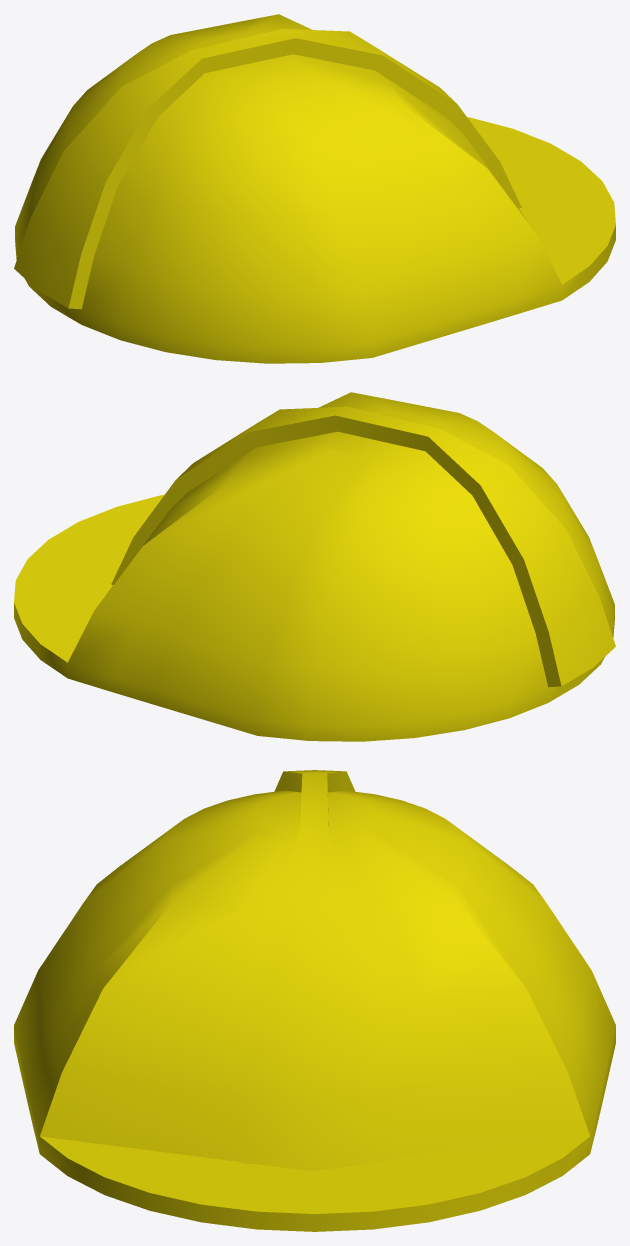
Rendered from hardhat.fbx.
The picture shows the model from 3 angles, top to bottom: view 1: azimuth 30°, elevation 25°; view 2: azimuth 150°, elevation 25°; view 3: azimuth 270°, elevation 25°; orthographic projection. The views are drawn at different scales.
Visible parts, largest first — view 1: Circle; view 2: Circle; view 3: Circle.
Boxes of the visible parts, left/top/right/bottom form: Circle: left=14, top=14, right=615, bottom=363; Circle: left=14, top=392, right=615, bottom=741; Circle: left=14, top=770, right=615, bottom=1231.
Bounding box in the file's own units: 232 × 88.21 × 196.
